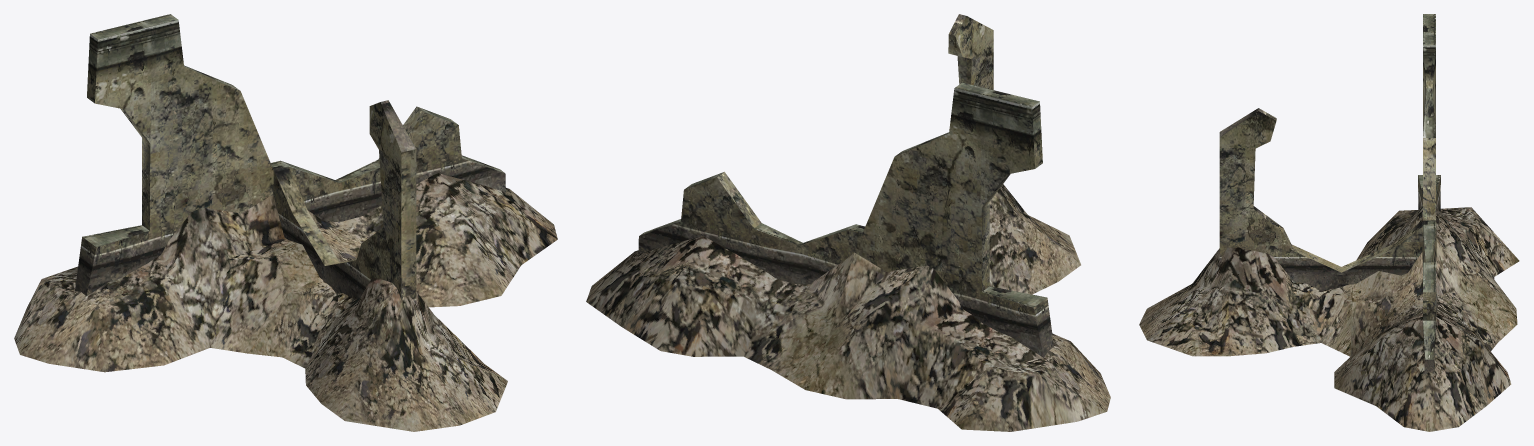
File: Rbl_T2.glb
3 renders of one model, left to right at view 1: azimuth 30°, elevation 25°; view 2: azimuth 150°, elevation 25°; view 3: azimuth 270°, elevation 25°, orthographic. The views are drawn at different scales.
Parts seen in each view (by area): view 1: _Rbl_T2; view 2: _Rbl_T2; view 3: _Rbl_T2.
Boxes of the visible parts, x1=… form: _Rbl_T2: x1=14, y1=14, x2=557, y2=431; _Rbl_T2: x1=586, y1=14, x2=1110, y2=431; _Rbl_T2: x1=1139, y1=14, x2=1519, y2=431.
Bounding box in the file's own units: 9.54 × 5.15 × 7.39.
Materials: 2 (2 with a texture image).
